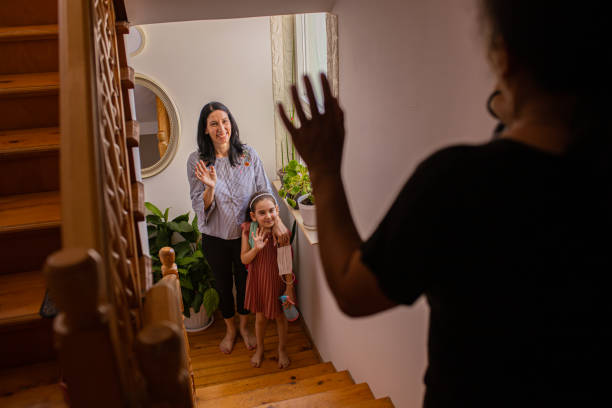without mask: (204, 107, 236, 144), (253, 198, 281, 230)
